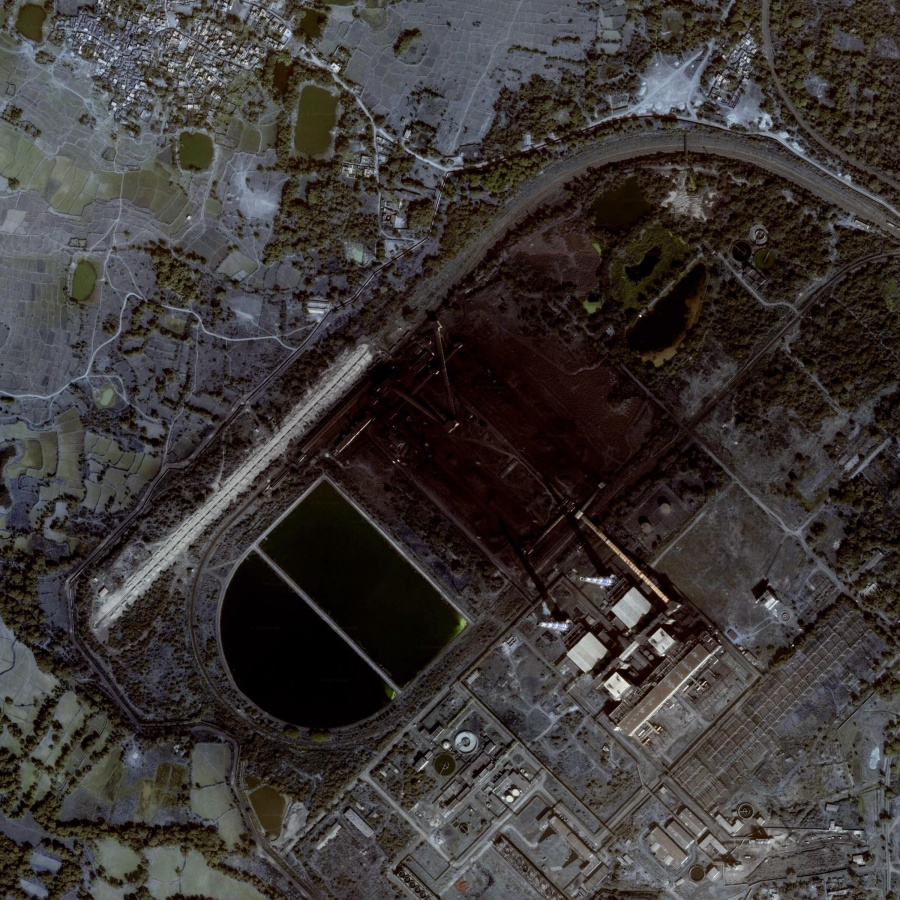PowerPlant: (203, 248, 714, 760)
